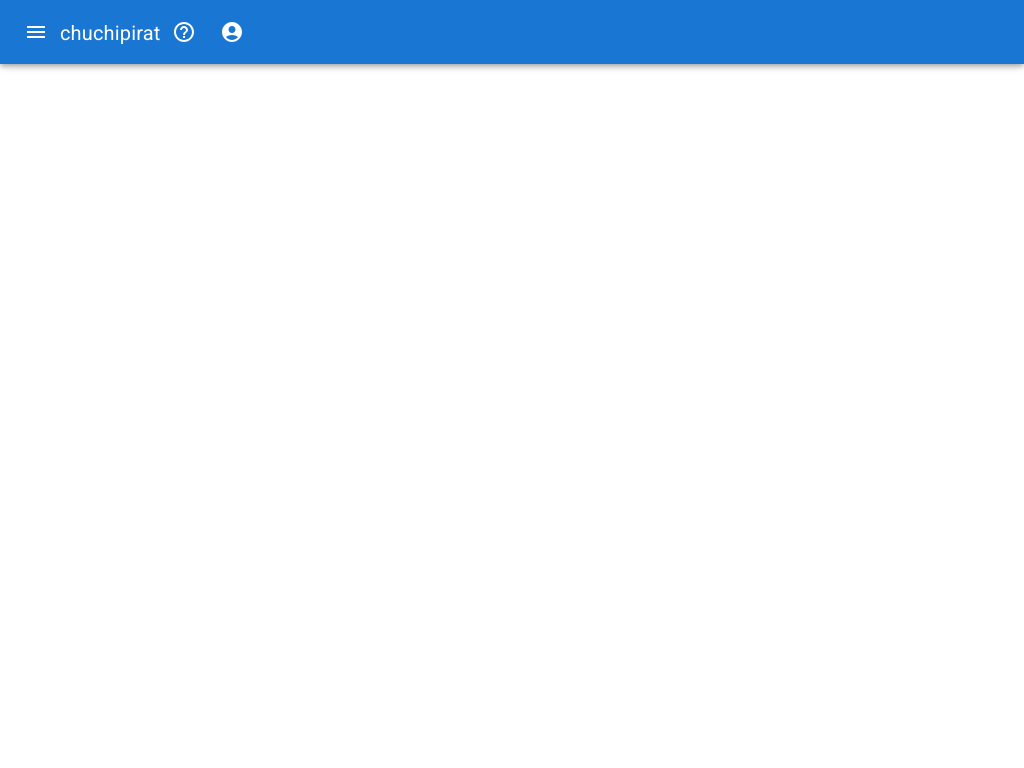
Scenario: NavigationBar › öffnet den Drawer beim Klick auf das Menü-Icon
Click the button named "Menü": (36, 32) [12,8,60,56]
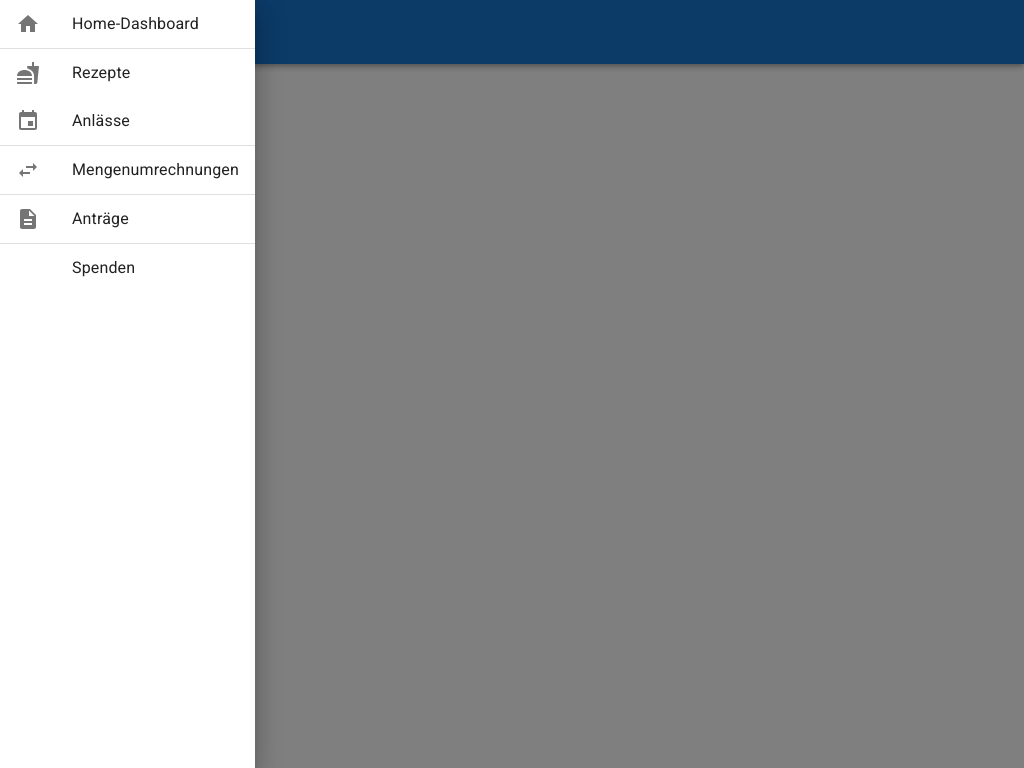
Check: the element named "Hauptnavigation" is shown, box [0,0,255,292]
